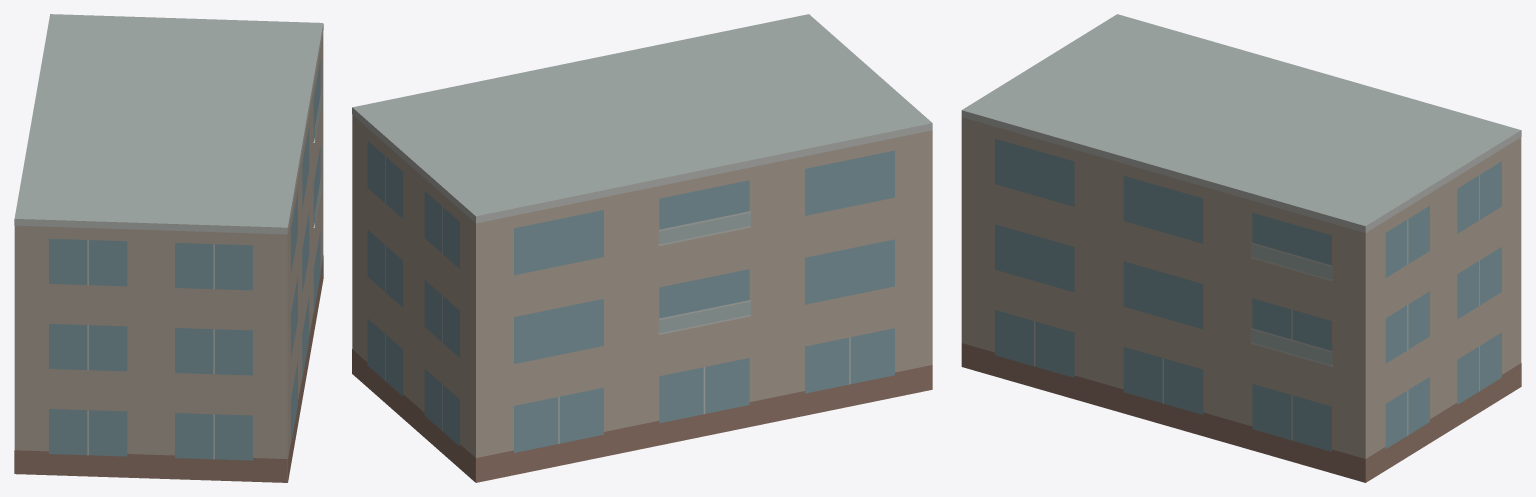
The model's file is survey-upis-32699837.glb.
The picture shows the model from 3 angles, left to right: view 1: azimuth 30°, elevation 25°; view 2: azimuth 150°, elevation 25°; view 3: azimuth 270°, elevation 25°; orthographic projection. The views are drawn at different scales.
Parts seen in each view (by area): view 1: survey-upis-32699837.tmp; view 2: survey-upis-32699837.tmp; view 3: survey-upis-32699837.tmp.
Boxes of the visible parts, x1,y1,x2,y2 form: survey-upis-32699837.tmp: (14, 14, 323, 482); survey-upis-32699837.tmp: (352, 14, 932, 482); survey-upis-32699837.tmp: (961, 14, 1521, 482).
Bounding box in the file's own units: 16.24 × 9.15 × 18.1.
